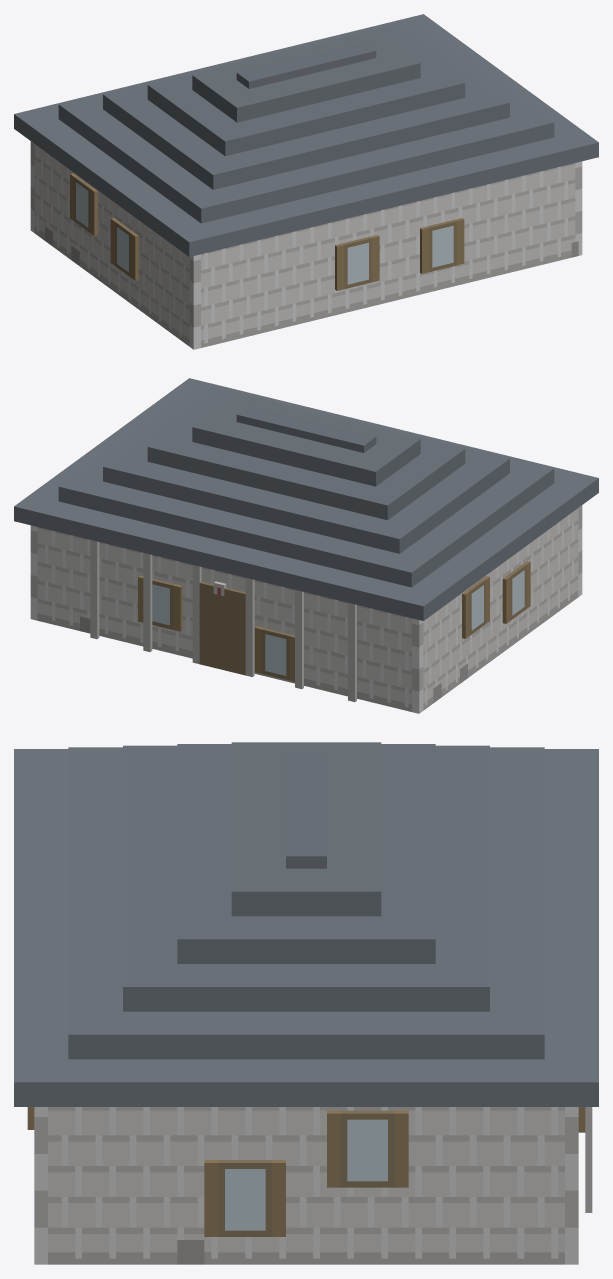
The model's file is banos_publicos_04.glb.
3 views of the same model, one above another, from view 1: azimuth 30°, elevation 25°; view 2: azimuth 150°, elevation 25°; view 3: azimuth 270°, elevation 25° (orthographic). The views are drawn at different scales.
Parts seen in each view (by area): view 1: banos_publicos_04; view 2: banos_publicos_04; view 3: banos_publicos_04.
Part boxes in pixels (left/top/right/bottom): banos_publicos_04: left=14, top=14, right=598, bottom=349; banos_publicos_04: left=14, top=378, right=598, bottom=713; banos_publicos_04: left=14, top=742, right=598, bottom=1264.
Size of the model in its own units: 11.6 by 4.9 by 8.6.
